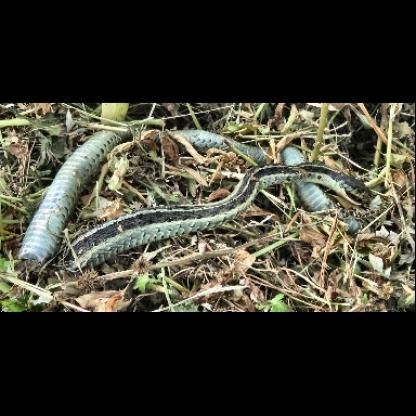Snake: (63, 150, 384, 264)
